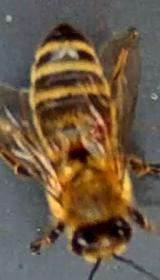varroa_mite: (77, 116, 125, 142)
